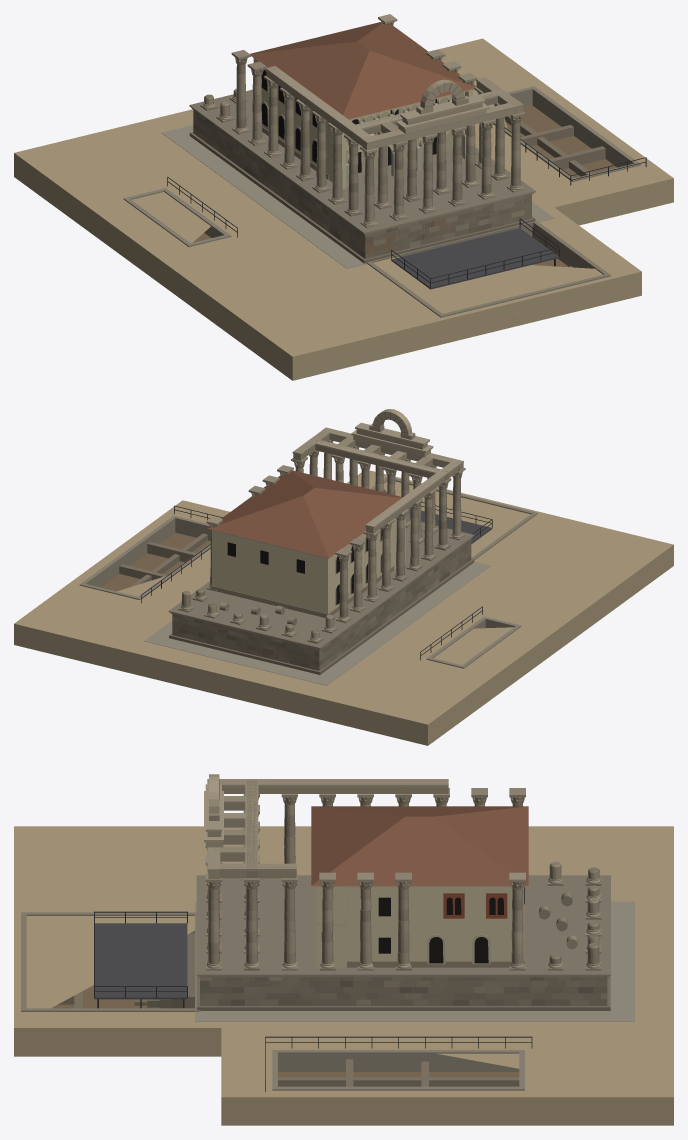
3 renders of one model, top to bottom at view 1: azimuth 30°, elevation 25°; view 2: azimuth 150°, elevation 25°; view 3: azimuth 270°, elevation 25°, orthographic. The views are drawn at different scales.
Parts seen in each view (by area): view 1: precinct, temple, palace; view 2: precinct, temple, palace; view 3: precinct, temple, palace.
Boxes of the visible parts, x1,y1,x2,y2 form: precinct: (14, 38, 673, 380); temple: (189, 14, 535, 263); palace: (250, 22, 476, 189); precinct: (14, 470, 673, 745); temple: (168, 409, 474, 674); palace: (208, 470, 405, 617); precinct: (14, 826, 673, 1125); temple: (196, 774, 610, 1010); palace: (311, 806, 528, 967).
Size of the model in its own units: 51 by 19.23 by 52.5.
